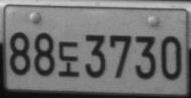0: (160, 34, 182, 81)
3: (134, 35, 156, 80), (85, 34, 106, 78)
7: (108, 34, 131, 78)
8: (8, 31, 31, 76), (33, 31, 55, 76)
도: (57, 40, 80, 77)
